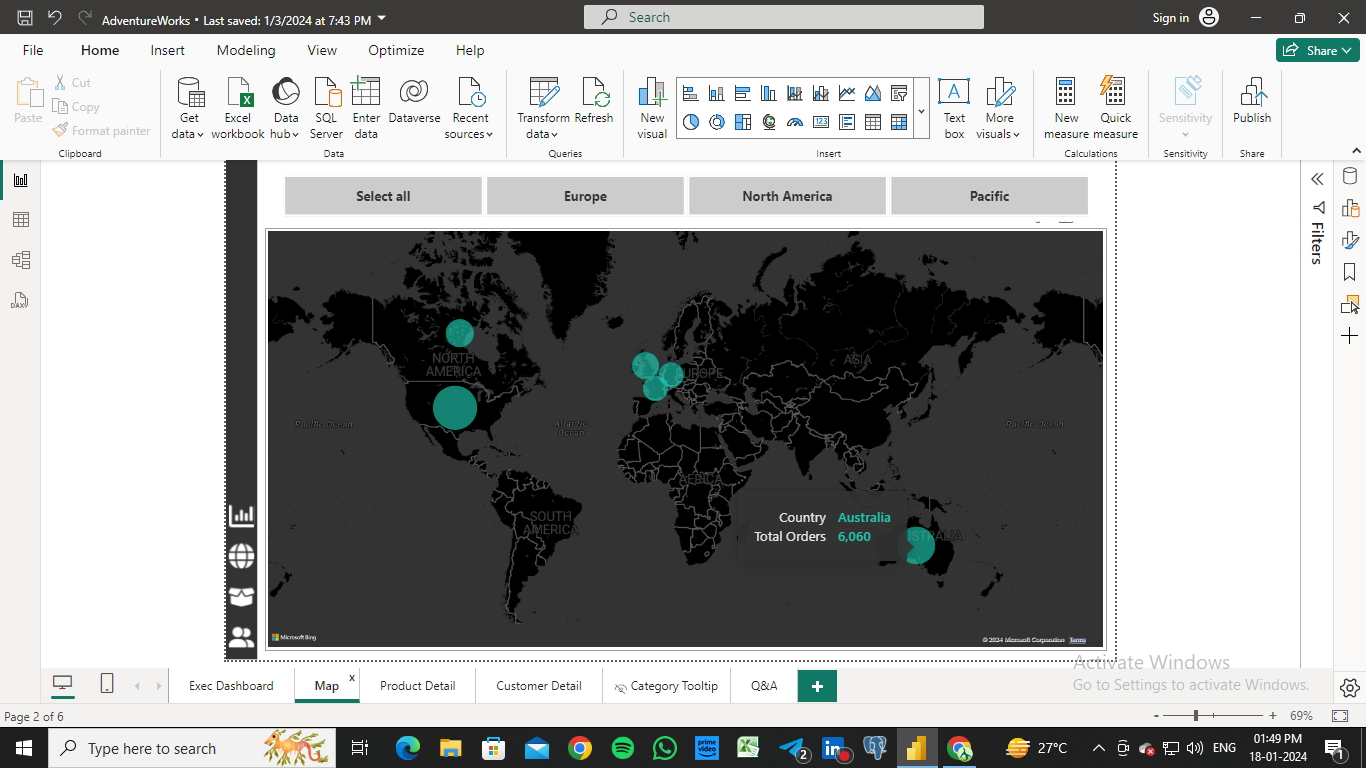

This screenshot's page, from the dashboard's own definition file:
{"tool":"powerbi","page":{"name":"Map","canvas":[1280,720],"ordinal":1},"visuals":[{"type":"shape","box":[0,0,45,719.4],"z":0},{"type":"actionButton","box":[0,489.6,44.6,46.1],"z":0,"group":"g1"},{"type":"map","fields":{"Category":["Territory Lookup.Country"],"Size":["Measure Table.Total Orders"]},"box":[56.5,98.6,1211.6,608.7],"z":1000},{"type":"actionButton","box":[0,605.8,44.6,46.1],"z":1000,"group":"g1"},{"type":"slicer","fields":{"Values":["Territory Lookup.Continent"]},"box":[56.5,14.5,1211.6,73.9],"z":2000},{"type":"actionButton","box":[0,663.8,44.6,46.1],"z":2000,"group":"g1"},{"type":"actionButton","box":[0,547.7,44.6,46.1],"z":3000,"group":"g1"},{"type":"group","id":"g1","title":"Navigation Buttons","box":[0,489.6,44.6,220.3],"z":3000}]}

Visuals, with their boxes on the page's 1280x720 design canvas (x1, y1, x2, y2). These are canvas units, not pixel positions in the 1366x768 screenshot, which may show the page scaled, cropped or inside an application window:
shape: {"left": 0, "top": 0, "right": 45, "bottom": 719}
actionButton: {"left": 0, "top": 490, "right": 45, "bottom": 536}
map - Territory Lookup.Country x Measure Table.Total Orders: {"left": 56, "top": 99, "right": 1268, "bottom": 707}
actionButton: {"left": 0, "top": 606, "right": 45, "bottom": 652}
slicer - Territory Lookup.Continent: {"left": 56, "top": 14, "right": 1268, "bottom": 88}
actionButton: {"left": 0, "top": 664, "right": 45, "bottom": 710}
actionButton: {"left": 0, "top": 548, "right": 45, "bottom": 594}
"Navigation Buttons" group: {"left": 0, "top": 490, "right": 45, "bottom": 710}
